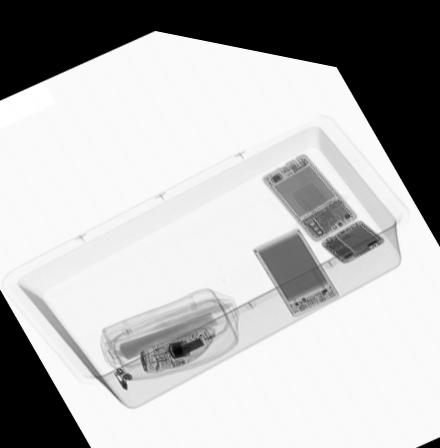Powerbank: (248, 211, 342, 306)
